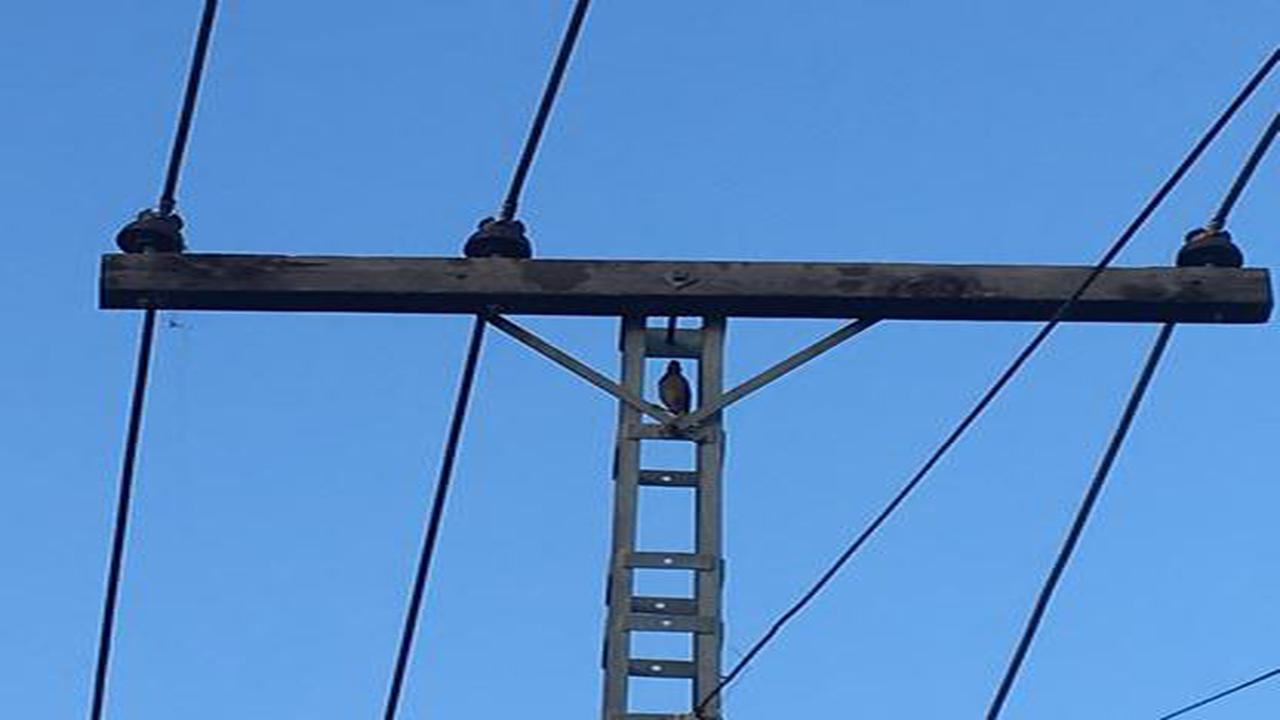insulator_pin: (455, 212, 539, 268), (113, 203, 190, 258), (1177, 222, 1247, 271)
